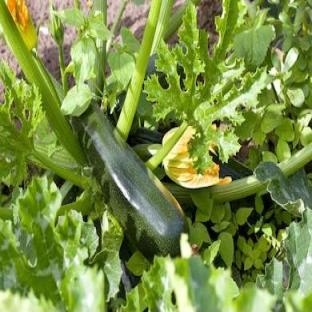Zucchini: (73, 104, 187, 259)
